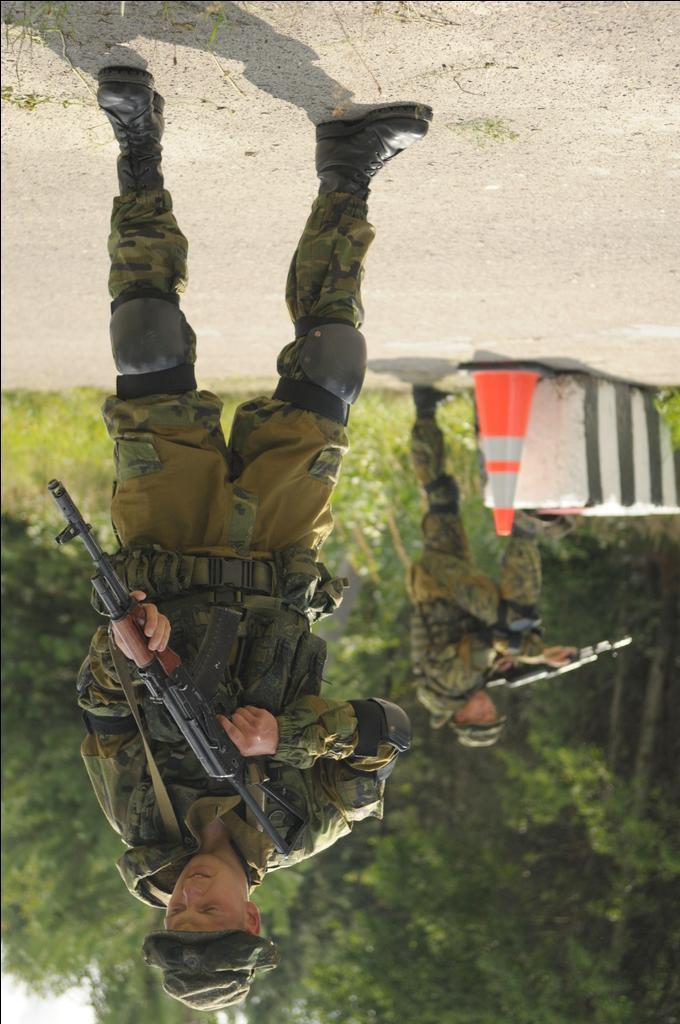gun: (36, 448, 322, 846), (461, 624, 639, 688)
